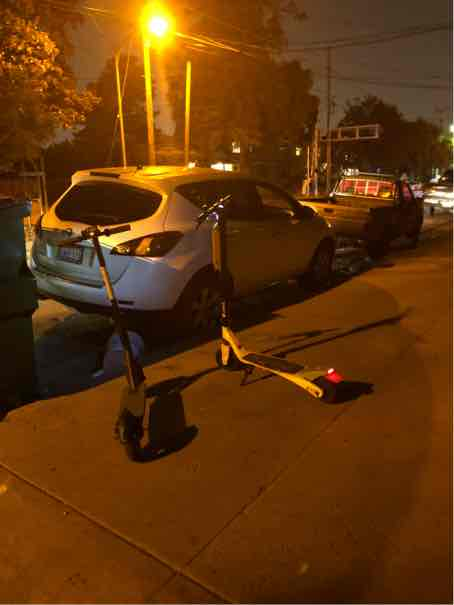scooter: (187, 191, 350, 418)
